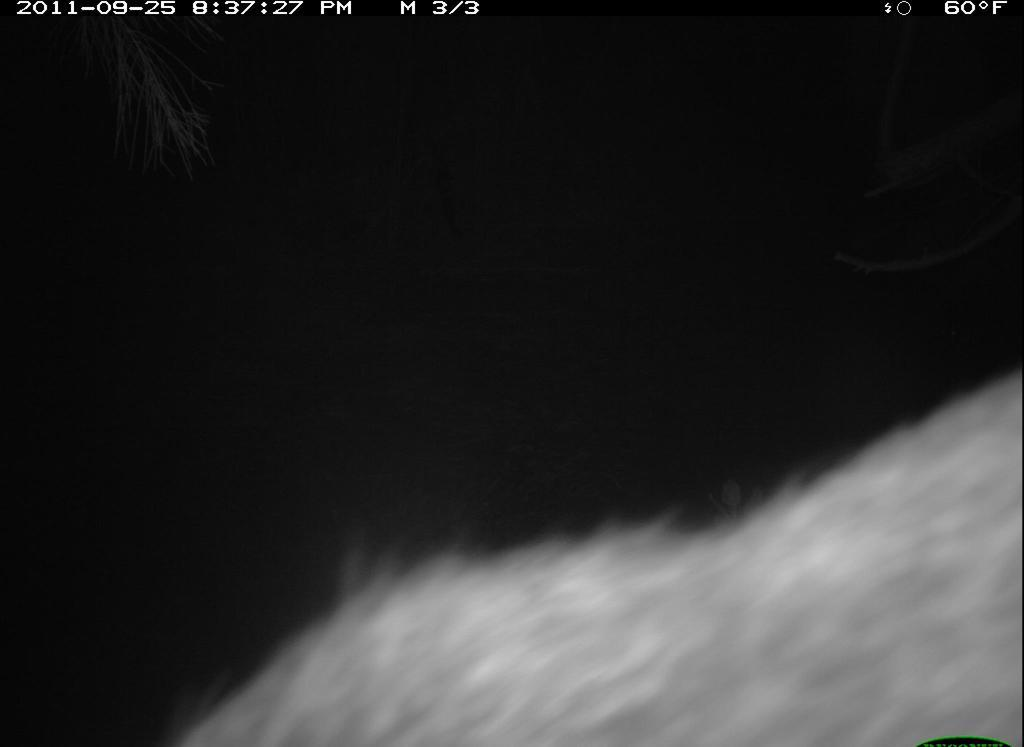raccoon: (162, 363, 1023, 747)
